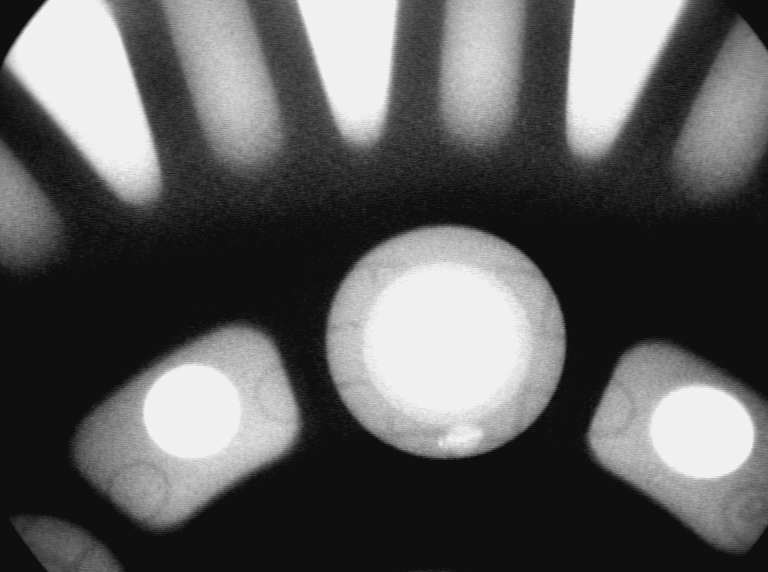defect: (436, 423, 487, 459)
